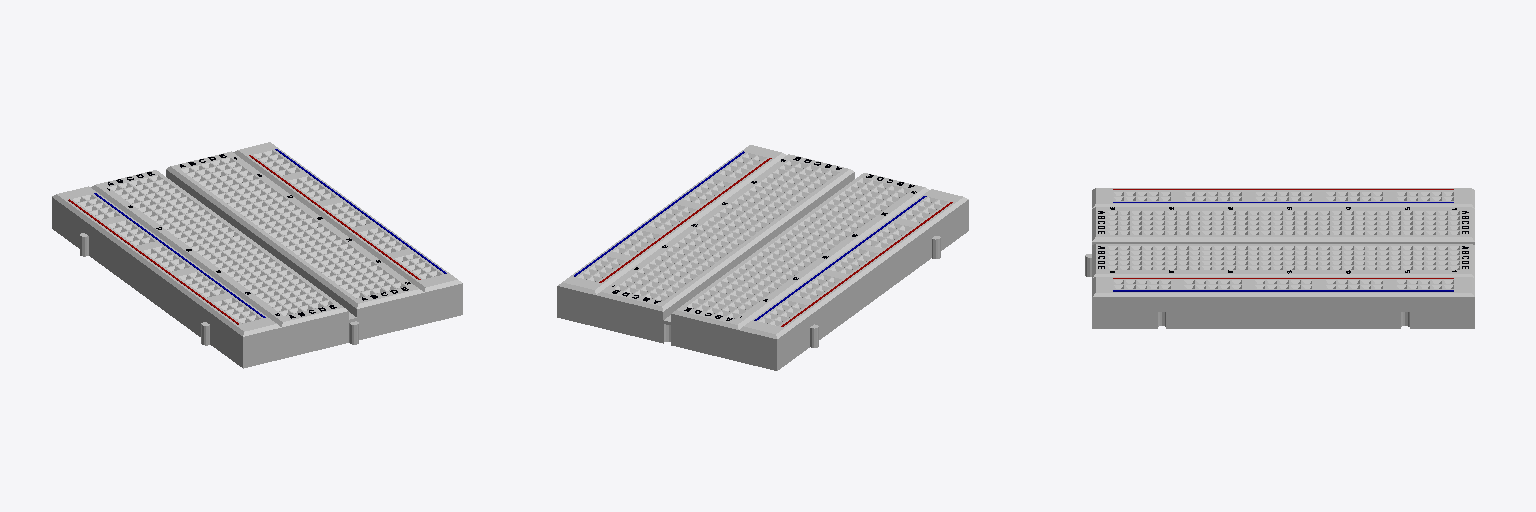
Rendered from breadboard.obj.
The picture shows the model from 3 angles: view 1: azimuth 30°, elevation 25°; view 2: azimuth 150°, elevation 25°; view 3: azimuth 270°, elevation 25°; orthographic projection.
Parts seen in each view (by area): view 1: breadboard_Object_1; view 2: breadboard_Object_1; view 3: breadboard_Object_1.
Part boxes in pixels (left/top/right/bottom): breadboard_Object_1: left=52, top=142, right=462, bottom=368; breadboard_Object_1: left=557, top=145, right=968, bottom=370; breadboard_Object_1: left=1085, top=188, right=1474, bottom=328.
Size of the model in its own units: 4.34 by 0.655 by 6.48.